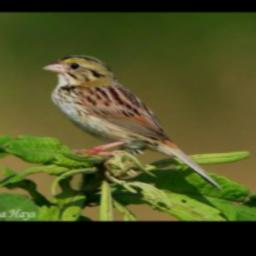Sparrow: (39, 52, 226, 194)
